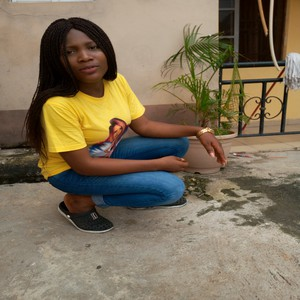Fulokoja_female_student: (40, 18, 156, 199)
